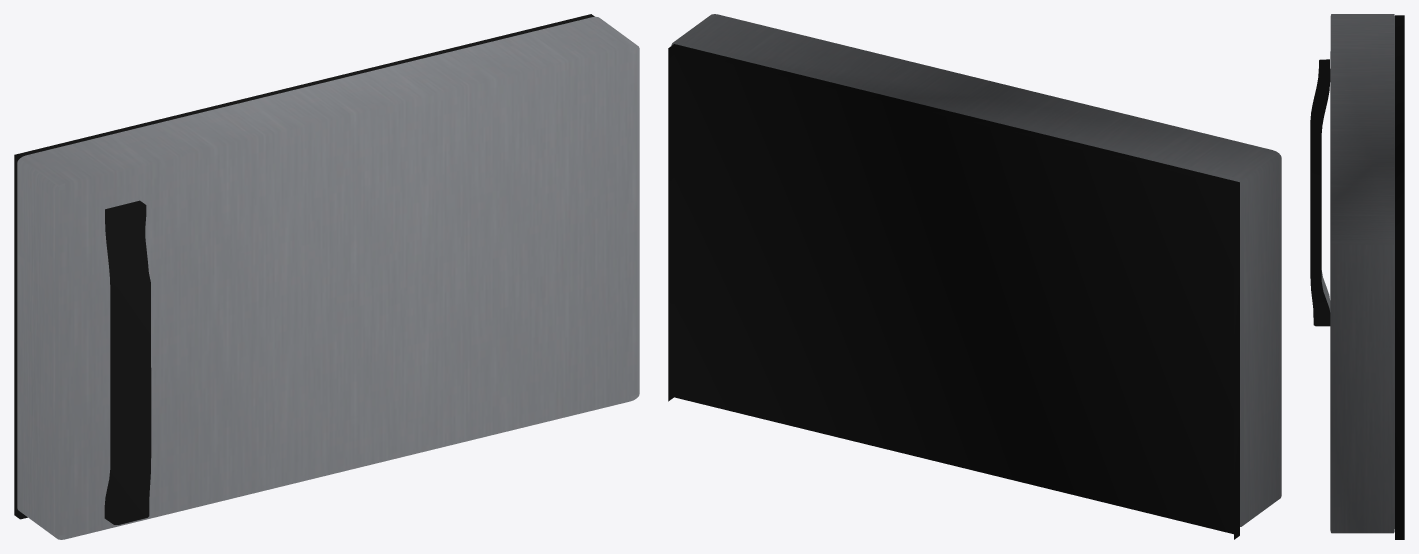
File: Refrigerator body metal part.fbx
3 renders of one model, left to right at view 1: azimuth 30°, elevation 25°; view 2: azimuth 150°, elevation 25°; view 3: azimuth 270°, elevation 25°, orthographic. The views are drawn at different scales.
Parts seen in each view (by area): view 1: Material_material.001; view 2: Material_material.001; view 3: Material_material.001.
Part boxes in pixels (x1=…): Material_material.001: x1=14, y1=14, x2=639, y2=539; Material_material.001: x1=668, y1=14, x2=1281, y2=539; Material_material.001: x1=1310, y1=14, x2=1404, y2=539.
Size of the model in its own units: 14925 by 8877 by 2561.
Materials: 1 (1 with a texture image).
